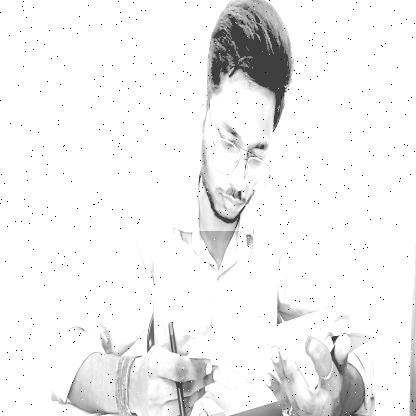Distracted: (197, 0, 293, 231)
